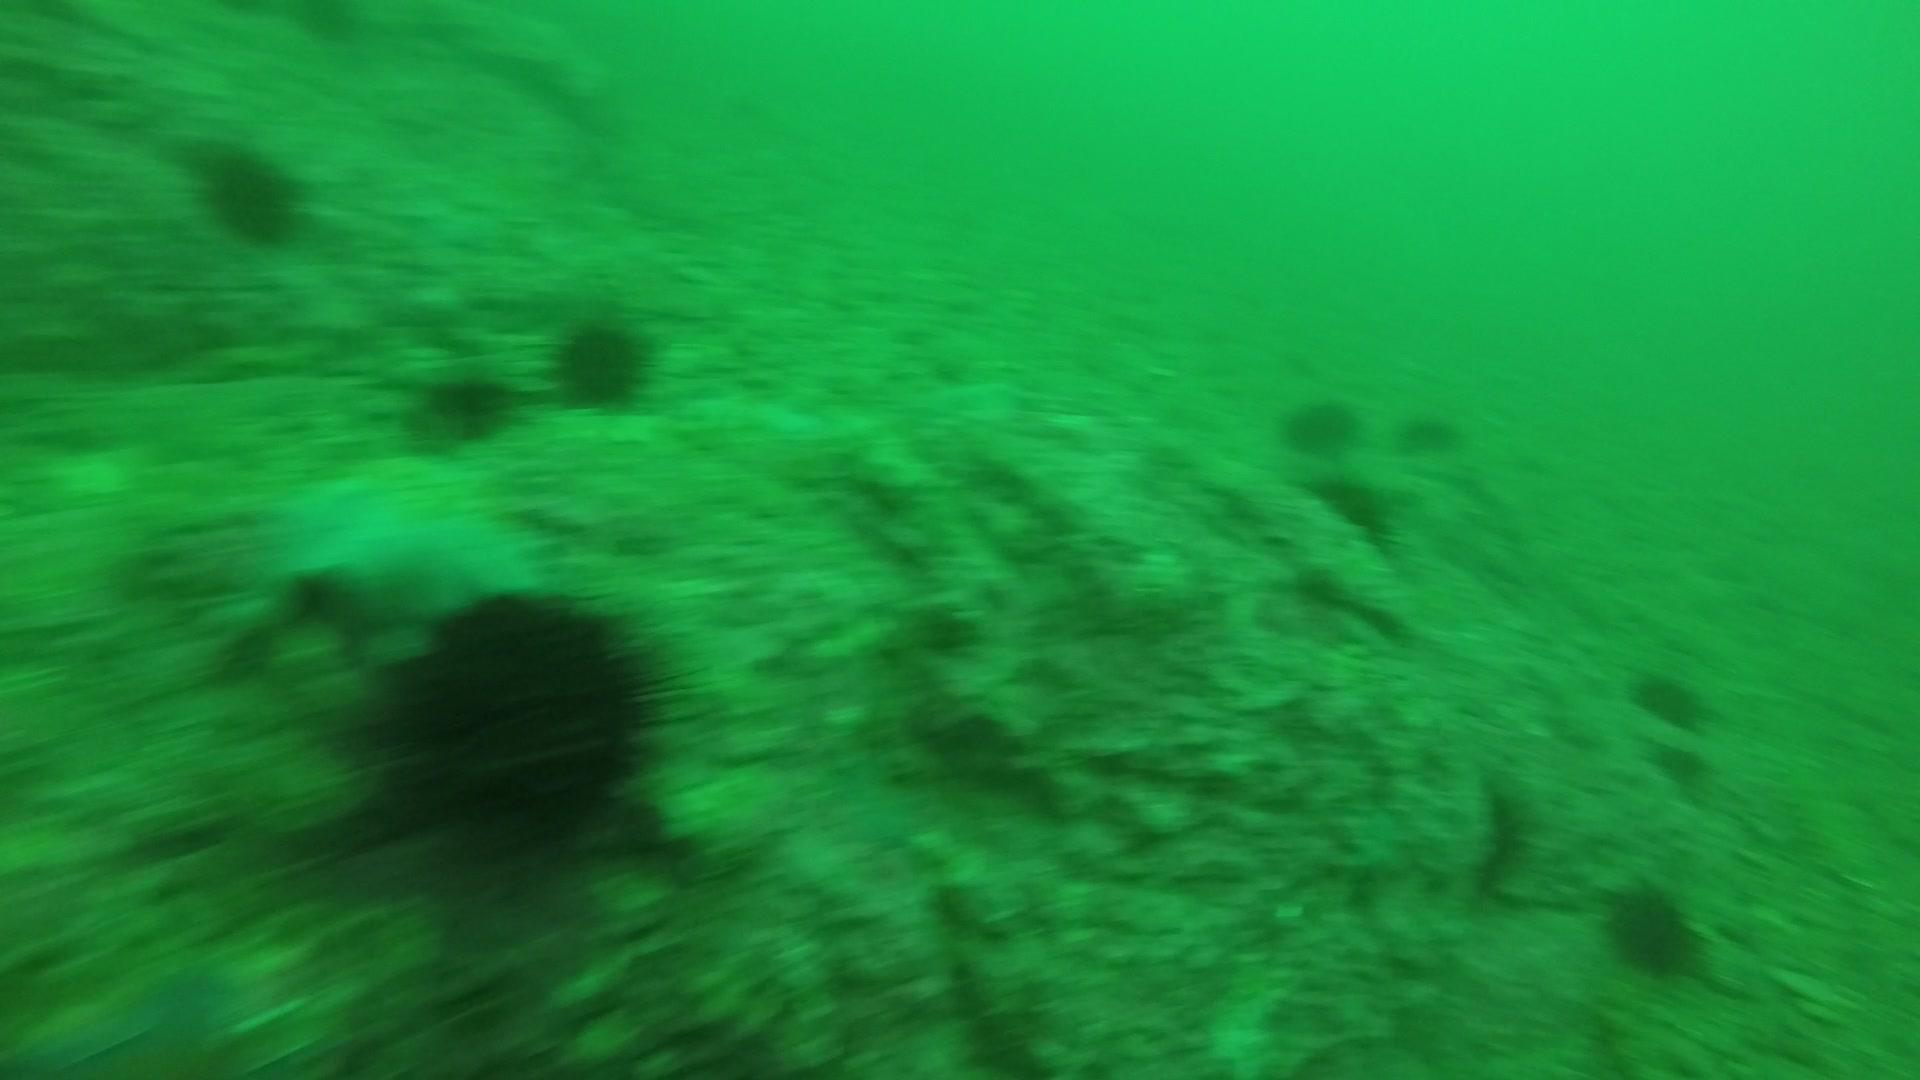urchin: (392, 596, 649, 849), (1600, 880, 1702, 982), (204, 138, 302, 245), (559, 298, 645, 406), (1269, 376, 1352, 448), (1647, 657, 1716, 727), (1655, 738, 1706, 789)
